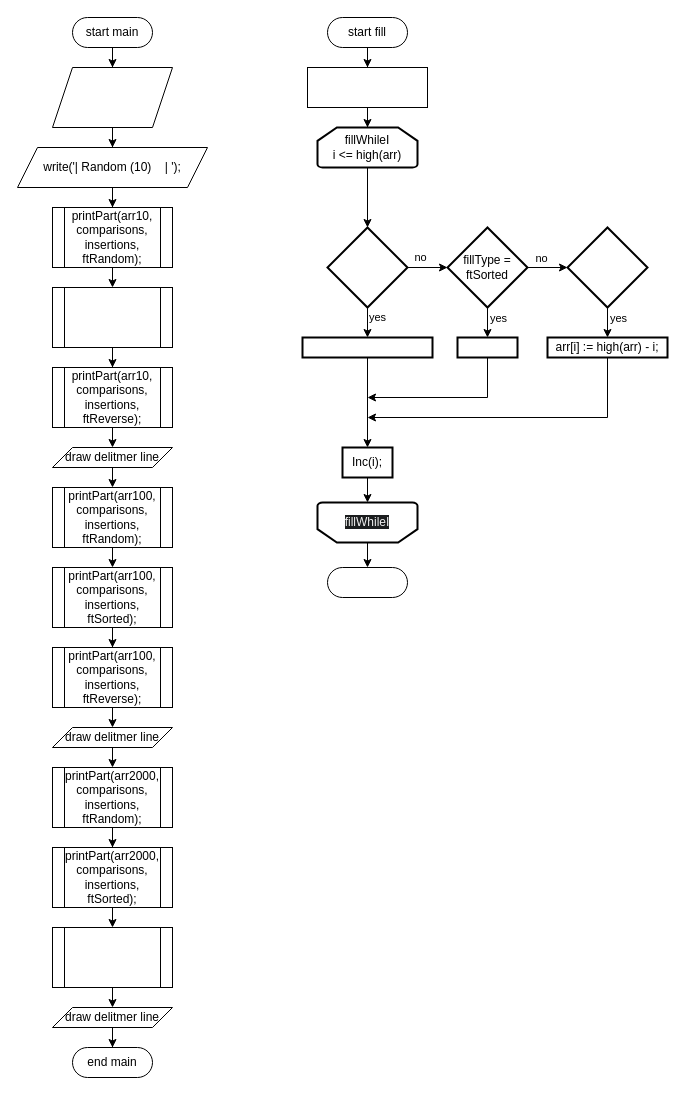
The diagram is 686 pixels wide and 1095 high, and some of its shapes have lost their labels. The shapes that lost their labels are listed below. From the top down, each one's box as (x1, y1, x2, y2) in pixels, then its label:
(52, 66, 172, 128): write table header
(306, 66, 428, 108): randomize; i := low(arr);
(326, 226, 408, 308): fillType = ftRandom
(566, 226, 648, 308): fillType = ftReverse
(52, 286, 172, 348): printPart(arr10, comparisons, insertions, ftSorted);
(301, 336, 433, 358): arr[i] := random(2000);
(456, 336, 518, 358): arr[i] := i;
(326, 566, 408, 598): end fill
(52, 926, 172, 988): printPart(arr2000, comparisons, insertions, ftReverse);
